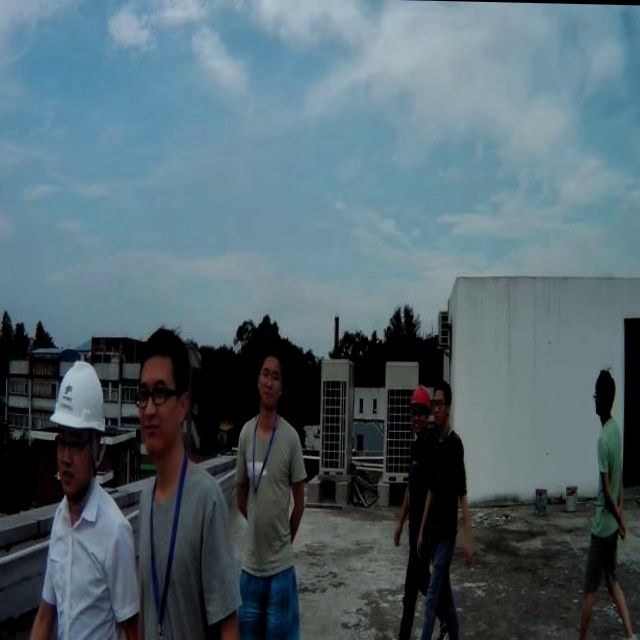Con_Casco: (48, 359, 105, 499)
Sin_Casco_Mascarrilla: (136, 323, 188, 457)
Sin_Chaleco: (135, 462, 229, 640), (36, 487, 136, 640), (232, 410, 308, 582)
